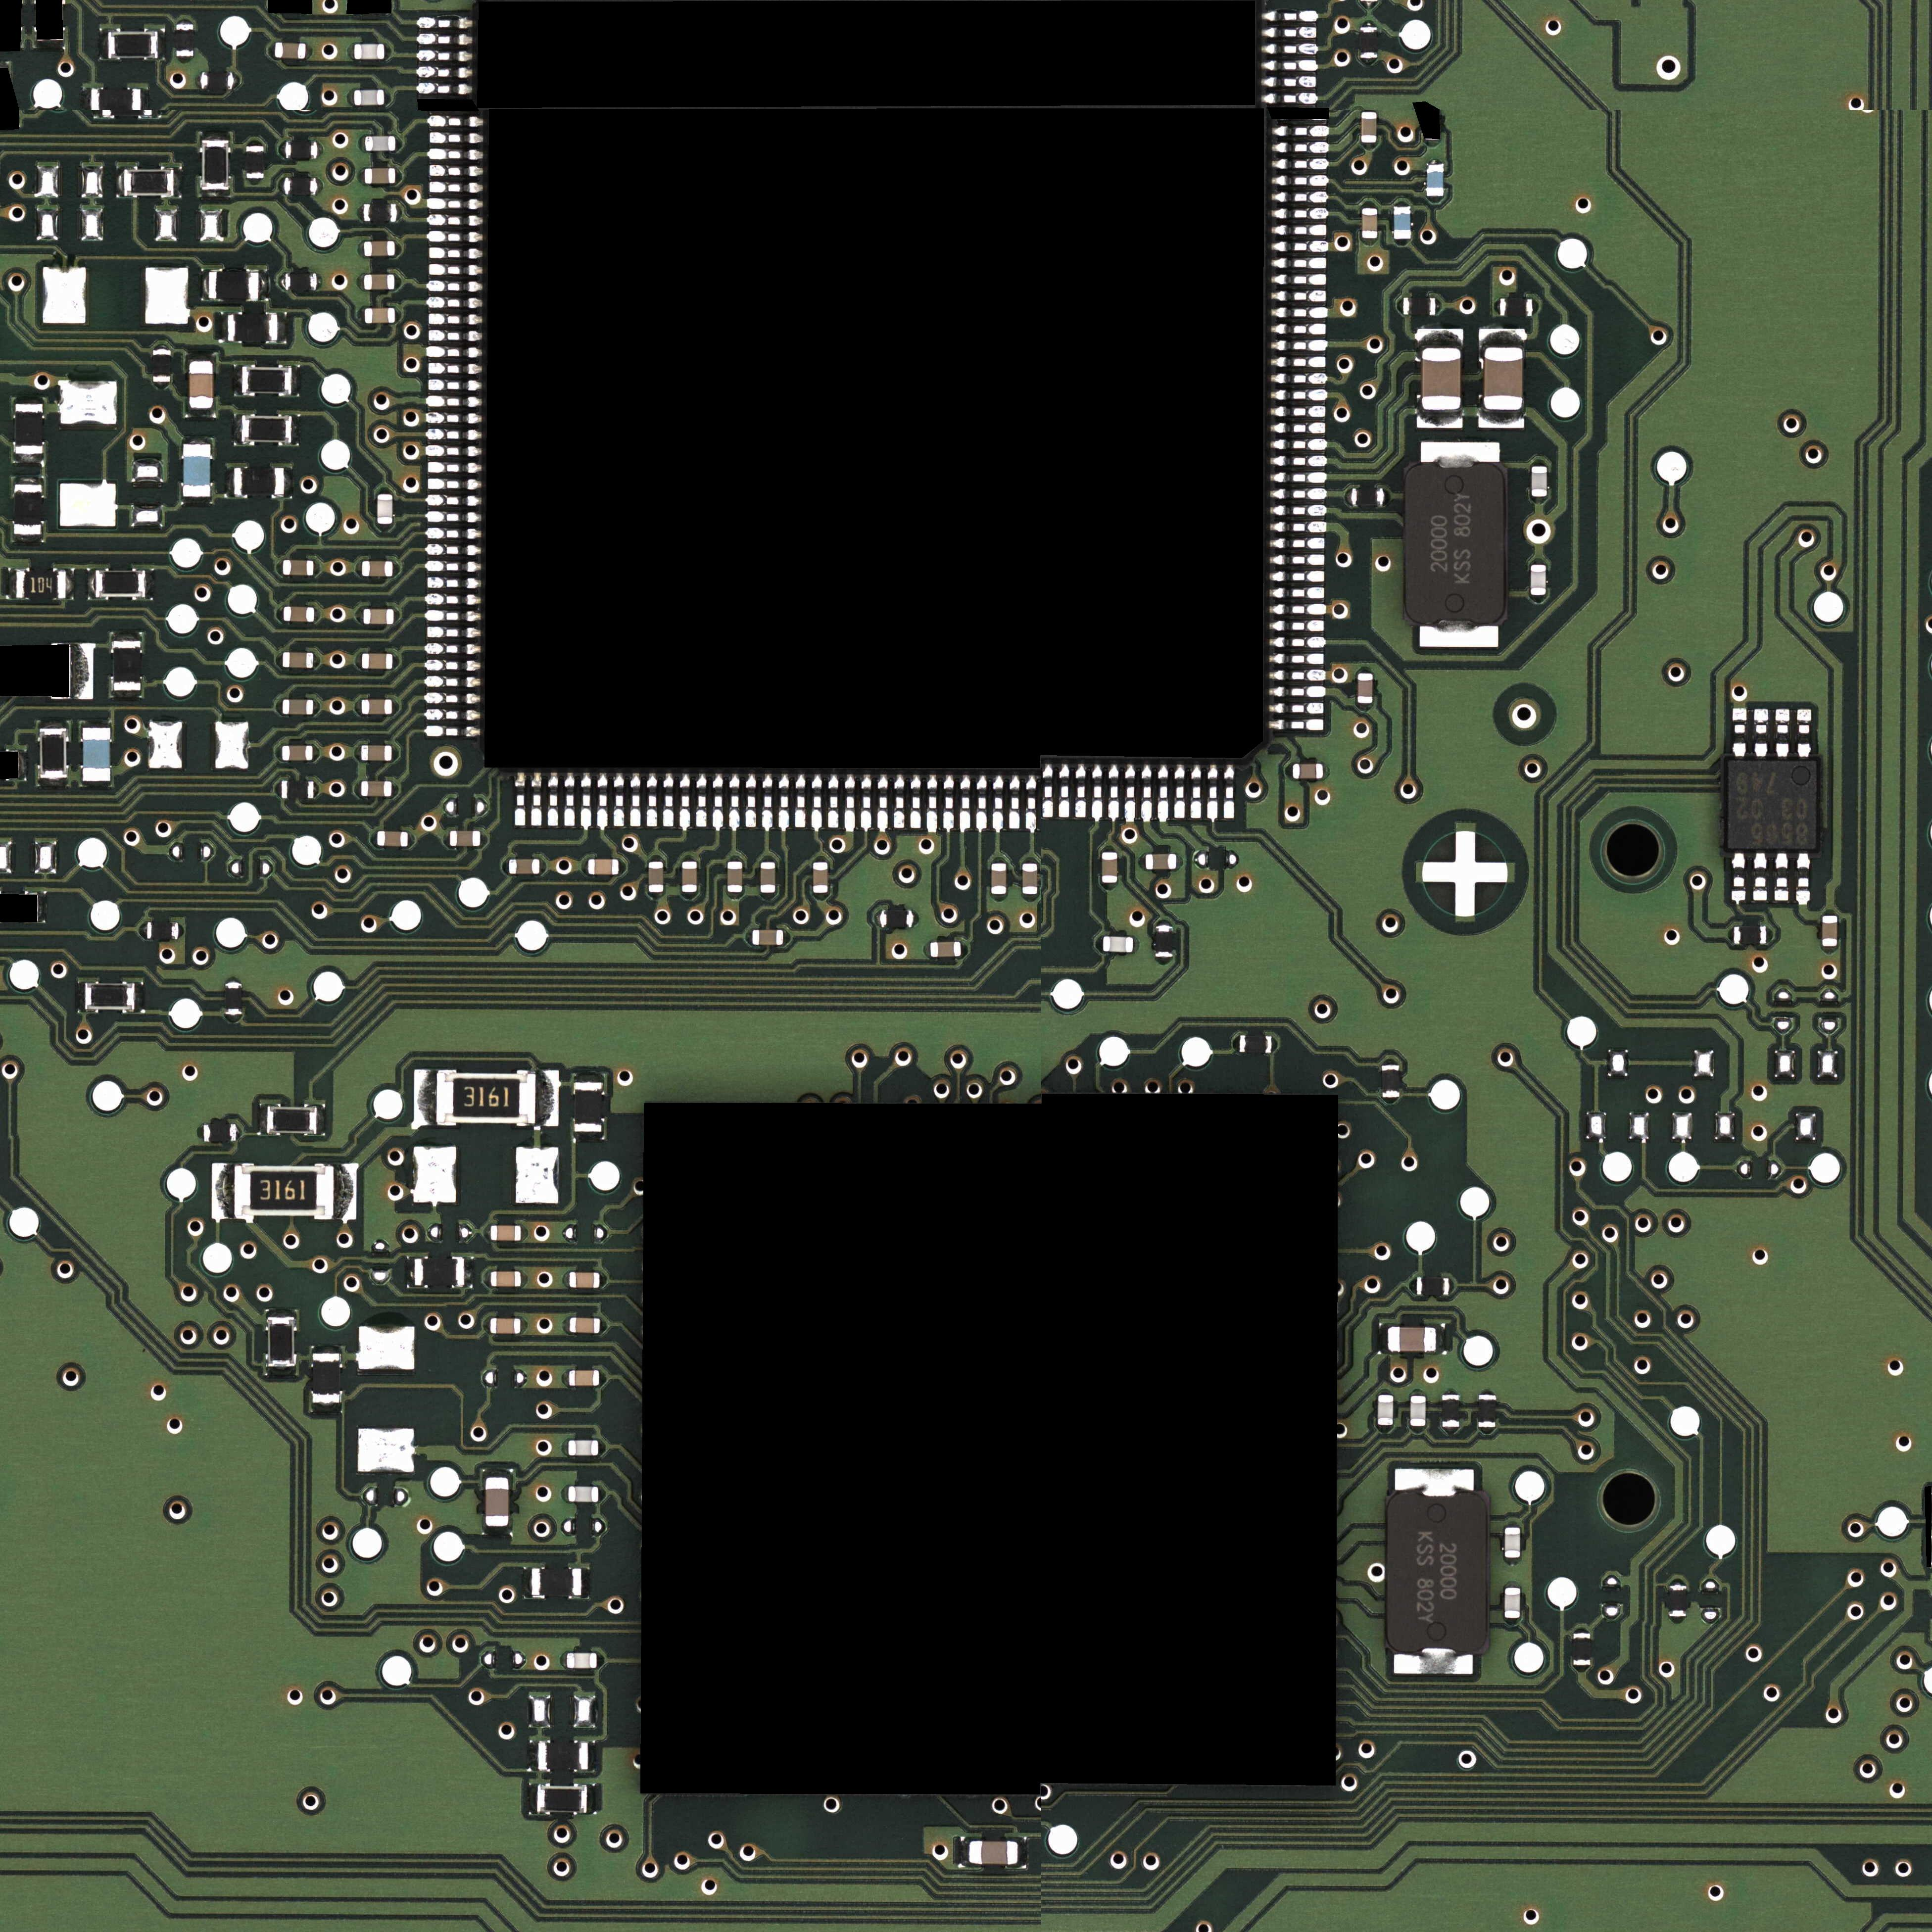Package: (1385, 1491, 1489, 1653), (1403, 462, 1506, 625), (1724, 758, 1819, 852), (437, 1072, 535, 1125), (235, 1165, 333, 1218), (1421, 347, 1461, 410), (1483, 347, 1522, 410), (83, 727, 110, 781), (538, 1741, 588, 1770), (208, 271, 259, 300), (183, 444, 210, 496), (228, 314, 277, 342), (575, 1082, 603, 1132), (312, 1353, 341, 1402), (14, 484, 42, 534), (15, 404, 43, 454), (113, 641, 141, 690), (531, 1568, 581, 1596), (16, 570, 66, 598), (234, 468, 284, 495), (414, 1258, 464, 1286), (537, 1786, 587, 1812), (242, 368, 291, 394), (202, 140, 228, 189), (242, 417, 291, 443), (268, 1317, 294, 1366), (267, 1107, 317, 1133), (108, 32, 157, 57), (85, 983, 134, 1009), (96, 571, 145, 596), (41, 728, 66, 778), (124, 170, 173, 195), (1388, 1327, 1436, 1352), (969, 1840, 1017, 1864), (485, 1477, 509, 1526), (189, 361, 213, 408), (363, 203, 396, 222), (1734, 925, 1767, 945), (1500, 297, 1533, 316), (1381, 1064, 1400, 1097), (246, 145, 264, 178), (153, 349, 171, 382), (203, 1123, 236, 1141), (1351, 487, 1384, 506), (1403, 297, 1436, 315), (1155, 925, 1173, 958), (1416, 1277, 1449, 1296), (880, 910, 913, 927), (285, 177, 317, 194), (1239, 1035, 1272, 1053), (1478, 1395, 1496, 1428), (1442, 1395, 1460, 1427), (1394, 206, 1411, 239), (1573, 1633, 1591, 1665), (176, 24, 193, 56), (225, 983, 242, 1015), (282, 780, 314, 798), (285, 141, 317, 158), (1427, 164, 1444, 196), (201, 72, 233, 89), (286, 273, 317, 290), (147, 922, 178, 939), (1670, 1585, 1687, 1617), (364, 168, 395, 184), (570, 1317, 600, 1334), (569, 1370, 599, 1387), (362, 653, 392, 670), (588, 859, 619, 875), (363, 608, 393, 625), (361, 745, 392, 761), (1360, 27, 1376, 58), (569, 1272, 599, 1288), (568, 1440, 598, 1456), (490, 1271, 521, 1287), (283, 560, 314, 576), (283, 652, 313, 668), (362, 561, 392, 577), (284, 606, 314, 622), (275, 43, 306, 58), (364, 274, 394, 290), (377, 831, 408, 847), (449, 830, 480, 846), (364, 241, 394, 257), (364, 308, 395, 324), (752, 929, 783, 945), (1293, 763, 1323, 779), (1103, 936, 1133, 952), (1378, 1395, 1394, 1426), (569, 1486, 598, 1502), (567, 1652, 597, 1669), (509, 859, 540, 874), (361, 781, 391, 797), (354, 90, 384, 105), (365, 136, 395, 151), (490, 1225, 521, 1241), (1146, 854, 1176, 869), (930, 941, 961, 957), (1410, 1396, 1426, 1426), (361, 699, 392, 715), (283, 699, 313, 715), (813, 862, 828, 893), (282, 745, 313, 761), (682, 862, 697, 892), (727, 862, 742, 892), (760, 862, 775, 893), (1532, 466, 1547, 497), (1102, 852, 1117, 883), (1822, 916, 1837, 946), (991, 863, 1007, 894), (1022, 864, 1038, 894), (1505, 1527, 1520, 1558), (354, 44, 384, 59), (490, 1318, 520, 1334), (1531, 565, 1546, 595), (1357, 673, 1373, 703), (1362, 208, 1377, 239), (1505, 1588, 1520, 1618), (1361, 111, 1376, 143), (377, 494, 392, 524), (648, 862, 663, 892)
Solder: (1420, 625, 1498, 647), (1394, 1654, 1473, 1675), (1396, 1469, 1475, 1490), (1420, 442, 1500, 461), (71, 643, 95, 700), (536, 1070, 559, 1126), (212, 1163, 234, 1220), (414, 1069, 435, 1126), (335, 1163, 356, 1220), (1479, 329, 1527, 347), (1478, 410, 1525, 429), (1418, 329, 1463, 347), (1417, 410, 1462, 428), (1732, 707, 1746, 758), (426, 625, 481, 638), (1796, 853, 1810, 904), (1797, 709, 1811, 758), (1732, 852, 1745, 902), (1776, 709, 1789, 759), (1754, 709, 1768, 759), (1753, 853, 1767, 902), (428, 164, 483, 177), (429, 147, 483, 160), (428, 181, 483, 193), (429, 115, 483, 127), (428, 214, 483, 226), (428, 231, 483, 243), (427, 363, 482, 376), (427, 380, 482, 392), (427, 412, 481, 425), (428, 461, 482, 474), (427, 478, 482, 490), (425, 577, 480, 589), (425, 609, 480, 622), (426, 709, 481, 721), (1261, 59, 1318, 71), (1261, 9, 1318, 21), (426, 691, 480, 703), (426, 528, 480, 540), (426, 445, 482, 457), (844, 774, 856, 831), (926, 775, 938, 832), (713, 773, 724, 830), (728, 774, 740, 831), (778, 774, 789, 831), (876, 775, 888, 832), (958, 776, 969, 833), (976, 775, 988, 832), (1142, 764, 1153, 821), (1123, 765, 1135, 821), (1092, 764, 1103, 821), (418, 17, 473, 29), (418, 34, 473, 46), (418, 49, 472, 61), (418, 66, 472, 78), (418, 82, 472, 94), (429, 131, 483, 143), (428, 247, 482, 259), (428, 198, 483, 210), (427, 330, 482, 342), (427, 347, 482, 359), (427, 396, 482, 408), (427, 429, 481, 440), (428, 297, 482, 309), (427, 313, 482, 325), (428, 281, 482, 292), (427, 494, 482, 506), (427, 510, 482, 522), (426, 642, 480, 654), (426, 659, 480, 671), (425, 675, 480, 687), (425, 593, 479, 605), (1271, 373, 1327, 385), (1261, 93, 1318, 104), (428, 264, 482, 276), (426, 544, 480, 556), (426, 561, 480, 573), (427, 725, 481, 737), (1270, 522, 1326, 533), (1262, 43, 1318, 54), (1775, 853, 1788, 902), (515, 772, 527, 827), (531, 772, 542, 827), (1261, 76, 1316, 88), (992, 775, 1003, 833), (1109, 764, 1119, 821), (548, 772, 560, 826), (564, 772, 575, 826), (596, 773, 607, 830), (663, 772, 674, 826), (679, 773, 690, 830), (696, 772, 707, 826), (745, 773, 756, 827), (763, 774, 773, 831), (795, 773, 806, 828), (811, 774, 822, 831), (827, 774, 839, 828), (893, 774, 905, 828), (861, 774, 872, 831), (943, 775, 954, 832), (1009, 775, 1020, 830), (1042, 763, 1054, 818), (1158, 765, 1168, 821), (1174, 764, 1186, 819), (1190, 764, 1202, 818), (1207, 765, 1218, 821), (1223, 764, 1234, 819), (581, 773, 592, 829), (1026, 776, 1037, 831), (1269, 637, 1325, 648), (1271, 456, 1327, 467), (1272, 176, 1328, 187), (1261, 27, 1317, 38), (1268, 703, 1323, 714), (1270, 587, 1325, 598), (629, 773, 640, 827), (614, 773, 625, 827), (647, 772, 658, 826), (911, 774, 921, 829), (1269, 719, 1323, 730), (1272, 225, 1327, 236), (1272, 143, 1328, 153), (1270, 604, 1326, 615), (1269, 621, 1325, 631), (1270, 390, 1326, 400), (1272, 126, 1328, 136), (1269, 670, 1325, 680), (1269, 654, 1324, 664), (1269, 538, 1325, 549), (1269, 555, 1324, 566), (1269, 572, 1325, 582), (1270, 407, 1326, 417), (1271, 423, 1326, 434), (1271, 439, 1326, 450), (1271, 472, 1326, 483), (1271, 488, 1326, 499), (1272, 340, 1327, 350), (1272, 308, 1328, 318), (1272, 275, 1327, 285), (1271, 258, 1327, 269), (1272, 241, 1327, 251), (1272, 159, 1328, 170), (1273, 193, 1328, 203), (1270, 686, 1325, 697), (1272, 291, 1327, 301), (1272, 324, 1326, 335), (1272, 209, 1329, 219), (1270, 505, 1326, 515), (1271, 357, 1327, 367), (1059, 763, 1069, 818), (1076, 763, 1086, 818), (1436, 1323, 1447, 1354), (310, 1402, 343, 1412), (958, 1836, 968, 1866), (35, 40, 64, 51), (12, 454, 45, 464), (259, 270, 269, 301), (265, 1366, 296, 1376), (200, 131, 231, 141), (587, 1784, 597, 1814), (185, 409, 216, 418), (99, 28, 108, 59), (186, 352, 217, 361), (111, 631, 142, 641), (135, 981, 144, 1012), (1378, 1323, 1388, 1353), (12, 476, 44, 484), (233, 364, 242, 395), (529, 1739, 538, 1771), (278, 312, 287, 343), (182, 435, 213, 444), (233, 414, 241, 445), (258, 1104, 267, 1135), (1017, 1836, 1026, 1867), (157, 29, 166, 59), (291, 365, 300, 395), (145, 569, 154, 599), (574, 1073, 604, 1082), (528, 1783, 537, 1814), (581, 1567, 590, 1598), (464, 1257, 473, 1287), (174, 166, 182, 198), (66, 568, 74, 600), (12, 535, 44, 543), (523, 1567, 531, 1598), (200, 269, 209, 300), (317, 1105, 325, 1136), (573, 1132, 604, 1140), (38, 720, 69, 728), (38, 778, 68, 787), (81, 720, 111, 728), (7, 568, 16, 599), (226, 465, 234, 497), (200, 190, 230, 198), (87, 569, 96, 599), (39, 891, 47, 923), (291, 415, 300, 444), (285, 467, 292, 498), (111, 690, 142, 698), (482, 1469, 513, 1477), (483, 1527, 512, 1535), (19, 750, 27, 780), (220, 312, 228, 342), (77, 981, 85, 1011), (181, 497, 213, 504), (311, 1346, 342, 1353), (588, 1740, 596, 1772), (266, 1309, 296, 1317), (406, 1256, 414, 1287), (116, 167, 124, 197), (80, 781, 111, 788), (13, 397, 44, 404), (1375, 1425, 1394, 1433), (1155, 957, 1173, 965), (1409, 1277, 1417, 1295), (1101, 883, 1118, 891), (1408, 1426, 1427, 1434), (783, 929, 791, 946), (598, 1440, 607, 1456), (597, 1652, 605, 1669), (1285, 763, 1293, 780), (990, 894, 1007, 902), (1766, 926, 1774, 944), (1393, 239, 1412, 246), (357, 136, 366, 151), (561, 1370, 569, 1387), (1323, 763, 1331, 779), (1022, 894, 1039, 902), (1138, 853, 1146, 870), (1532, 298, 1540, 315), (1530, 595, 1547, 603), (1821, 947, 1838, 955), (1360, 143, 1377, 151), (1360, 239, 1378, 246), (139, 922, 147, 939), (480, 831, 488, 847), (745, 929, 753, 945), (562, 1317, 570, 1333), (561, 1440, 569, 1456), (561, 1486, 569, 1502), (1176, 854, 1184, 870), (1504, 1558, 1520, 1566), (346, 44, 355, 59), (395, 136, 403, 151), (225, 1015, 242, 1022), (913, 911, 920, 928), (1356, 704, 1373, 711), (1424, 140, 1441, 147), (395, 168, 403, 184), (391, 745, 399, 761), (562, 1272, 570, 1288), (598, 1486, 606, 1502), (559, 1652, 567, 1668), (176, 56, 193, 64), (153, 382, 170, 389), (1396, 297, 1403, 314), (1101, 845, 1117, 853), (1531, 497, 1547, 504), (812, 893, 830, 900), (1096, 935, 1103, 953), (1426, 196, 1444, 203), (1442, 1427, 1459, 1434), (1360, 20, 1378, 27), (346, 90, 354, 105), (384, 90, 392, 105), (355, 608, 363, 624), (619, 859, 627, 874), (521, 1225, 529, 1241), (391, 781, 399, 797), (196, 1124, 203, 1141), (726, 892, 743, 900), (1530, 558, 1546, 565), (1504, 1520, 1521, 1528), (1155, 919, 1172, 926), (1728, 926, 1735, 944), (394, 275, 402, 290), (357, 274, 364, 290), (357, 168, 365, 184), (377, 487, 393, 494), (377, 524, 392, 531), (392, 699, 399, 715), (442, 831, 450, 847), (923, 942, 930, 958), (521, 1318, 528, 1334), (483, 1271, 491, 1287), (483, 1317, 490, 1333), (247, 140, 264, 146), (356, 204, 363, 221), (1361, 201, 1378, 208), (1345, 488, 1352, 505), (1384, 489, 1391, 506), (1233, 1035, 1240, 1052), (1494, 298, 1500, 315), (268, 43, 275, 58), (305, 44, 313, 59), (392, 561, 400, 577), (408, 832, 415, 847), (392, 654, 400, 669), (502, 859, 509, 874), (681, 892, 697, 900), (761, 893, 776, 900), (521, 1271, 528, 1287), (483, 1225, 491, 1240), (599, 1370, 607, 1386), (1504, 1618, 1520, 1625), (1670, 1616, 1685, 1624), (1505, 1580, 1520, 1588), (358, 307, 365, 323), (247, 178, 263, 185), (153, 343, 170, 350), (317, 142, 324, 158), (961, 941, 968, 958), (1133, 936, 1140, 953), (1022, 857, 1038, 864), (1378, 1388, 1394, 1395), (1435, 298, 1442, 314), (1478, 1428, 1496, 1434), (395, 241, 402, 256), (385, 45, 392, 59), (355, 561, 362, 576), (600, 1318, 608, 1333), (600, 1273, 607, 1288), (1670, 1578, 1685, 1586), (317, 179, 324, 194), (357, 241, 364, 257), (233, 73, 240, 89), (279, 142, 286, 158), (275, 781, 282, 797), (813, 856, 828, 863), (727, 855, 743, 862), (760, 855, 776, 862), (991, 857, 1007, 864), (1574, 1665, 1590, 1672), (1359, 58, 1378, 64), (396, 204, 403, 221), (276, 607, 284, 621), (395, 307, 402, 323), (355, 653, 362, 669), (276, 560, 283, 575), (354, 745, 361, 761), (370, 831, 377, 846), (540, 859, 547, 874), (581, 859, 588, 874), (648, 855, 664, 862), (648, 892, 664, 899), (1357, 666, 1372, 673), (1532, 459, 1547, 466), (278, 178, 285, 194), (279, 273, 285, 290), (1822, 909, 1838, 916), (1449, 1278, 1455, 1295), (276, 652, 283, 667), (354, 781, 361, 796), (276, 699, 283, 714), (354, 700, 361, 715), (313, 561, 320, 576), (313, 745, 320, 760), (313, 700, 320, 715), (313, 653, 320, 668), (1382, 1058, 1399, 1064), (1410, 1389, 1426, 1395), (1479, 1389, 1496, 1395), (393, 609, 400, 623), (314, 607, 321, 622), (226, 976, 241, 983), (681, 855, 697, 862), (1272, 1036, 1279, 1052), (177, 18, 193, 24), (1381, 1098, 1399, 1104), (276, 745, 282, 760), (1394, 200, 1411, 206), (317, 274, 323, 290), (195, 73, 201, 89), (1575, 1627, 1589, 1633), (314, 782, 320, 797), (236, 1124, 241, 1140), (874, 911, 880, 927), (1427, 159, 1443, 164), (1443, 1389, 1459, 1394), (179, 924, 185, 938)
